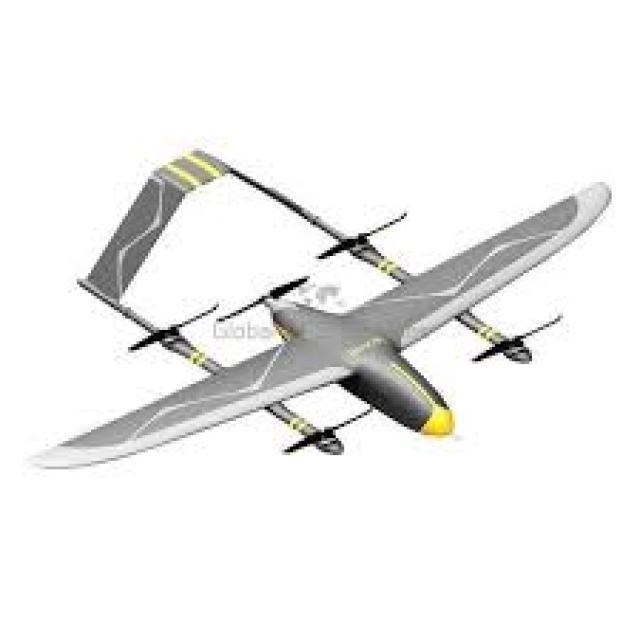UAV: (59, 121, 592, 530)
